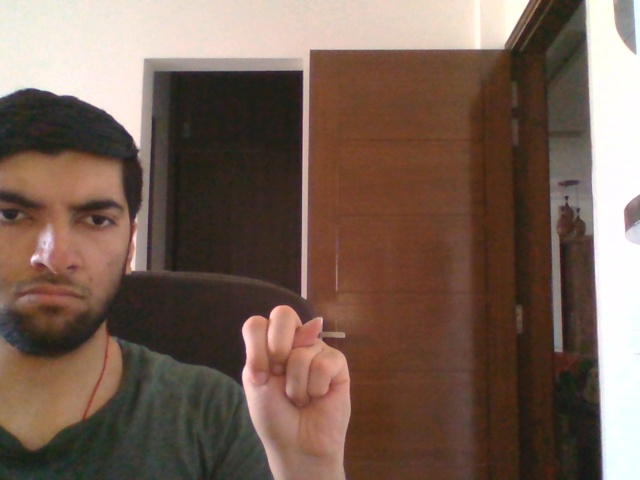LetterN: (240, 304, 353, 470)
